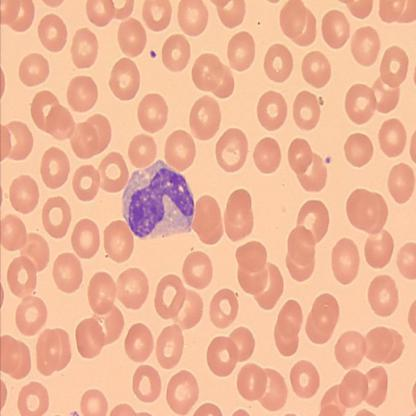Monocyte: (119, 157, 196, 239)
